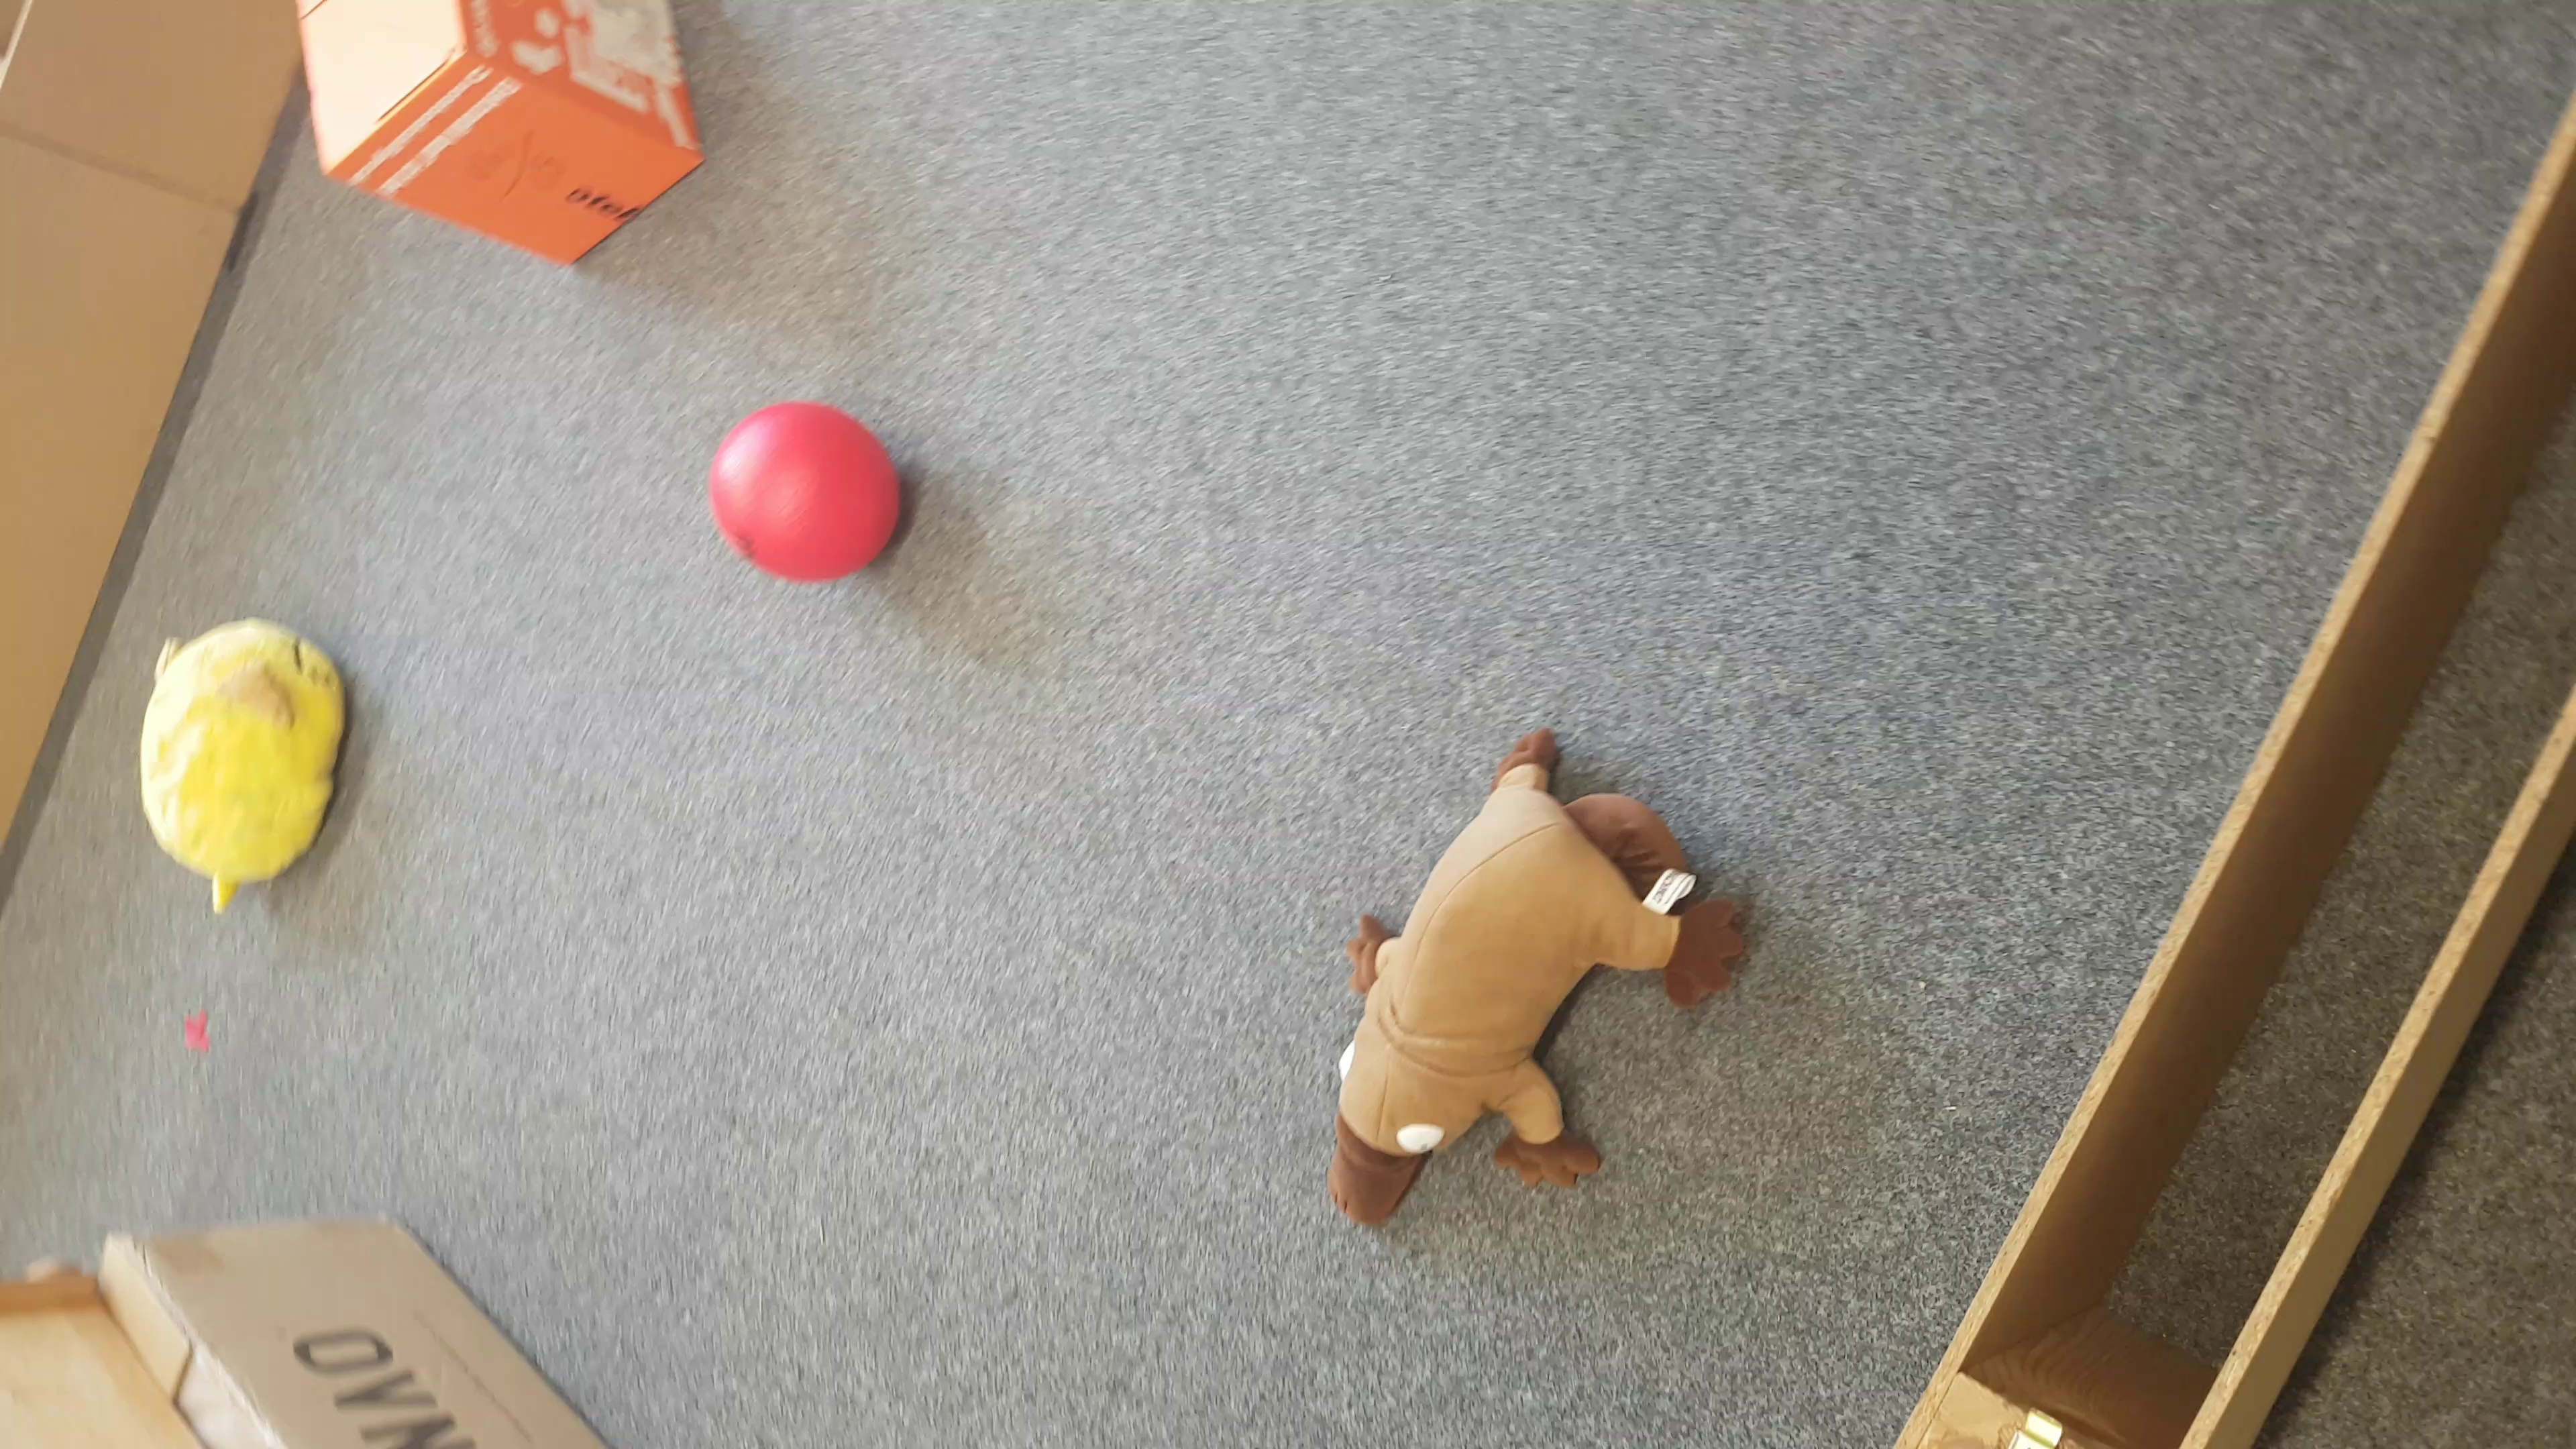grasp: (1327, 731, 1748, 1230), (140, 621, 347, 911)
kick: (709, 403, 902, 582)
push: (295, 0, 704, 260)
